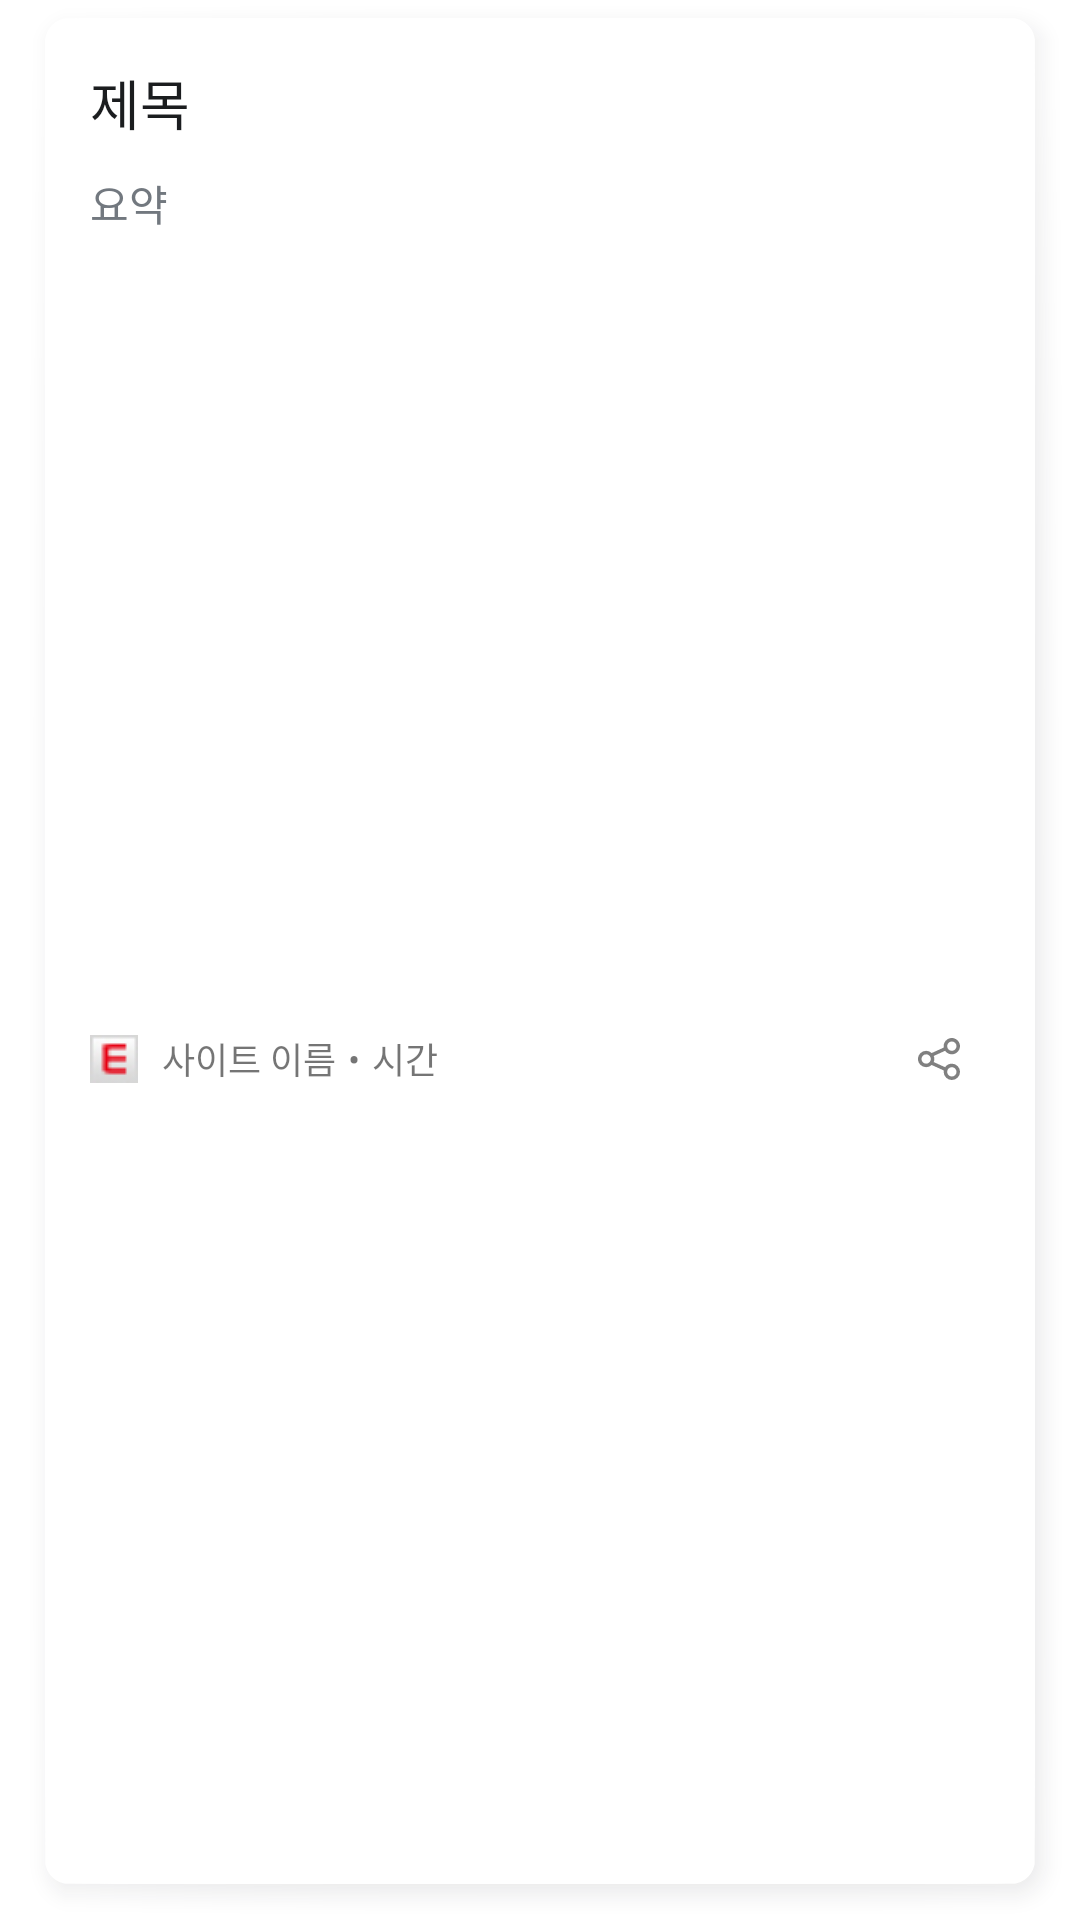

Icons on this 1080×1920 Android screen, each with its box as (x1, y1, x2, y2):
share: (918, 1038, 960, 1080)
